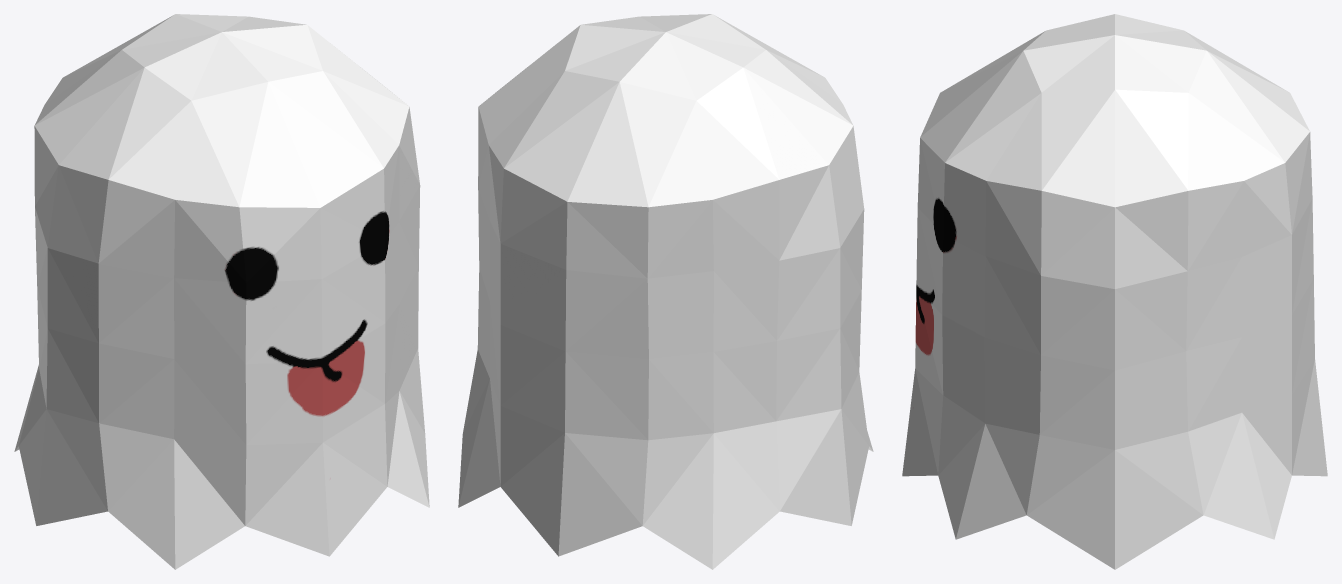
File: Enemy.obj
3 views of the same model, side by side, from view 1: azimuth 30°, elevation 25°; view 2: azimuth 150°, elevation 25°; view 3: azimuth 270°, elevation 25° (orthographic).
Parts seen in each view (by area): view 1: 立方体; view 2: 立方体; view 3: 立方体.
Boxes of the visible parts, left/top/right/bottom form: 立方体: left=14, top=14, right=429, bottom=569; 立方体: left=458, top=14, right=873, bottom=569; 立方体: left=902, top=14, right=1327, bottom=569.
Size of the model in its own units: 2.41 by 2.77 by 2.41.
1 material, 1 textured.
